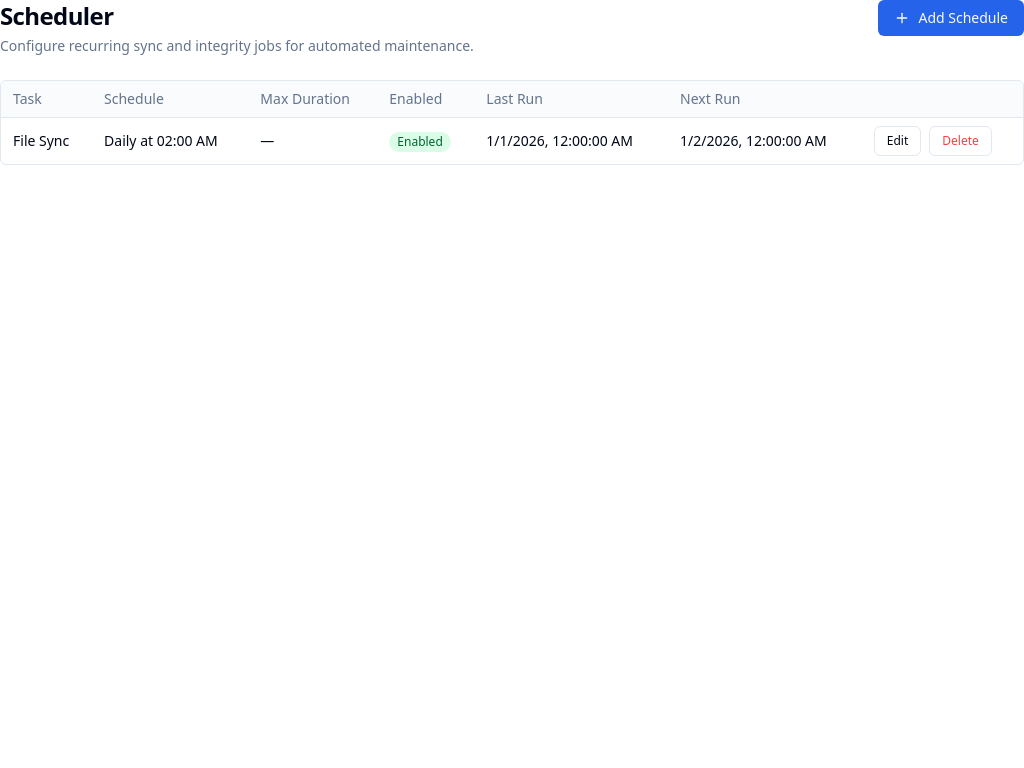
it: SchedulerPage › sets enabled=false and max_duration_seconds when creating a schedule
Expected: the row with test id "schedule-row-1" is shown, [1,118,1023,164]
Click the button "Add Schedule" at (951, 18), box [878,0,1023,36]
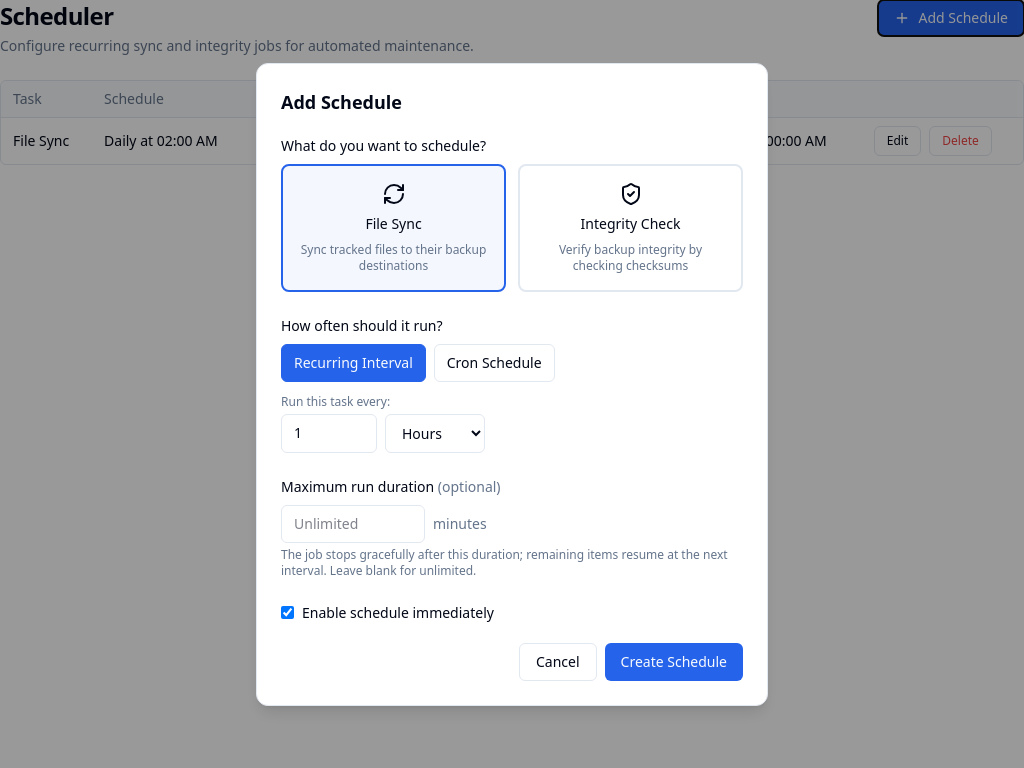
Click the button "Integrity Check" at (630, 228), box [518,164,743,292]
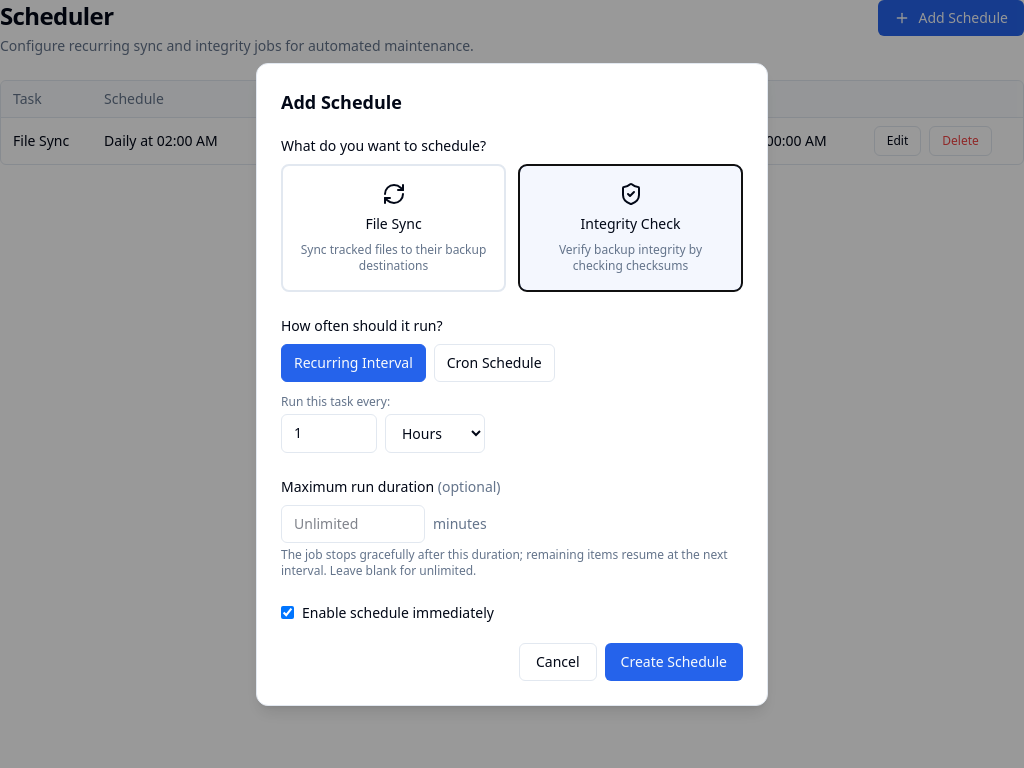
# Uncheck the "Enable schedule immediately" checkbox
Click the checkbox labelled "Enable schedule immediately" at (288, 612), box [281,606,294,619]
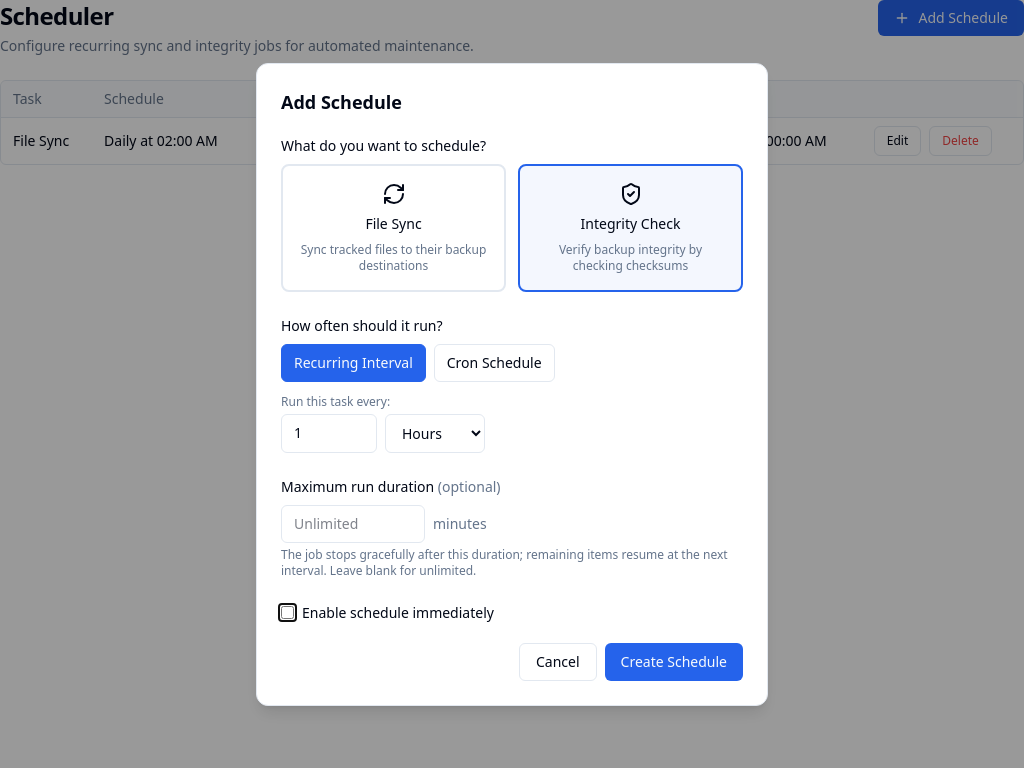
# Set a max duration
Type "2" into the number field named "Max duration in minutes" at (353, 524), box [281,504,425,542]
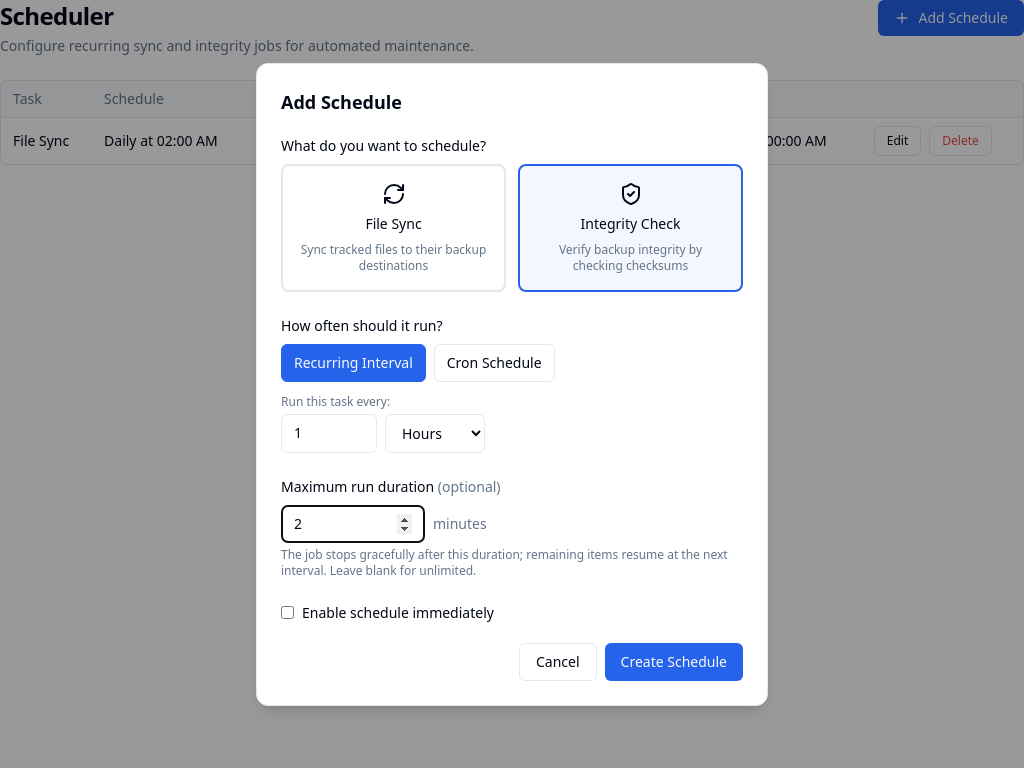
Click the button "Create Schedule" at (674, 662), box [605,642,743,680]
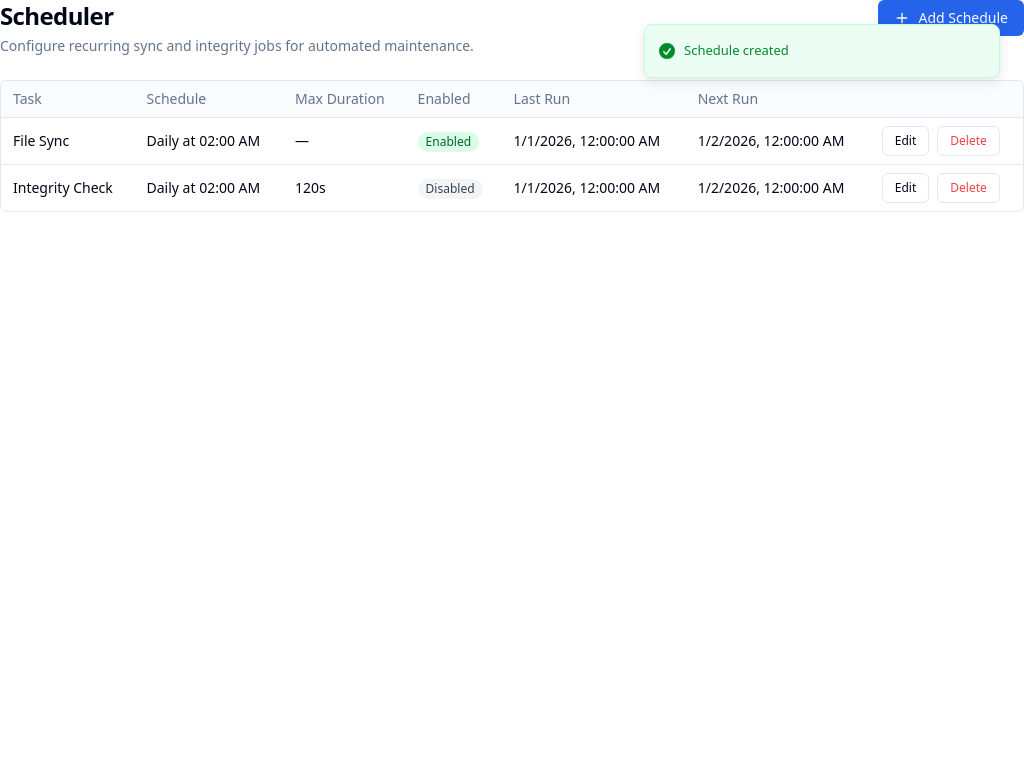
Result: the text "Schedule created" is shown at [684,41,789,60]
